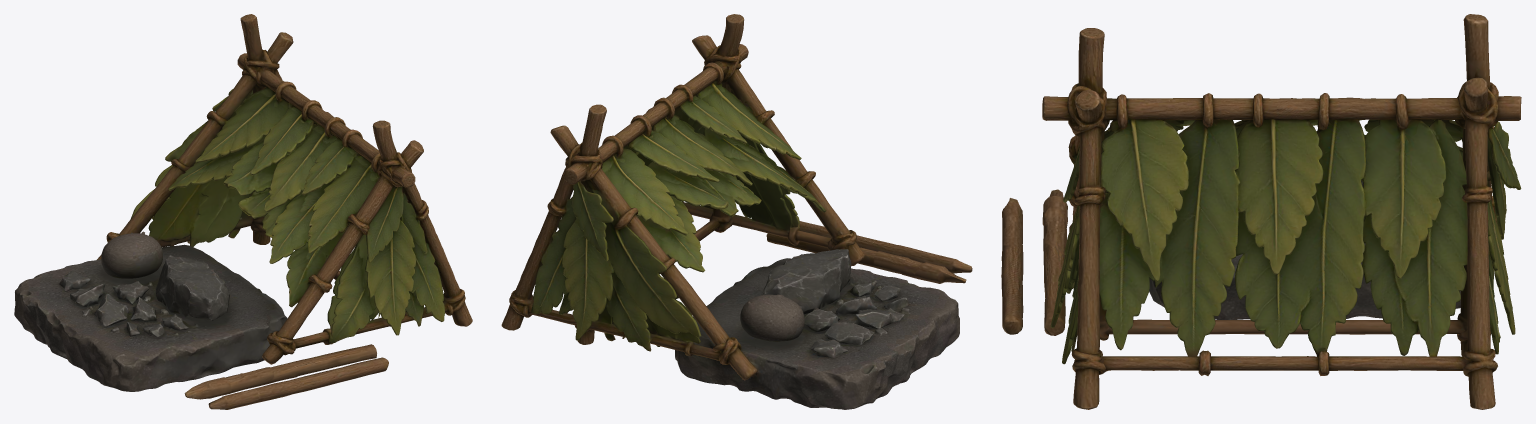
File: Tool Maker (Mesoamerican).fbx
The picture shows the model from 3 angles, left to right: view 1: azimuth 30°, elevation 25°; view 2: azimuth 150°, elevation 25°; view 3: azimuth 270°, elevation 25°; orthographic projection. The views are drawn at different scales.
Visible parts, largest first — view 1: tripo_node_a2f25e9e; view 2: tripo_node_a2f25e9e; view 3: tripo_node_a2f25e9e.
Part boxes in pixels (x1=…): tripo_node_a2f25e9e: x1=14, y1=14, x2=472, y2=409; tripo_node_a2f25e9e: x1=501, y1=14, x2=972, y2=409; tripo_node_a2f25e9e: x1=1001, y1=14, x2=1521, y2=409.
Size of the model in its own units: 1 by 0.6786 by 0.9155.
